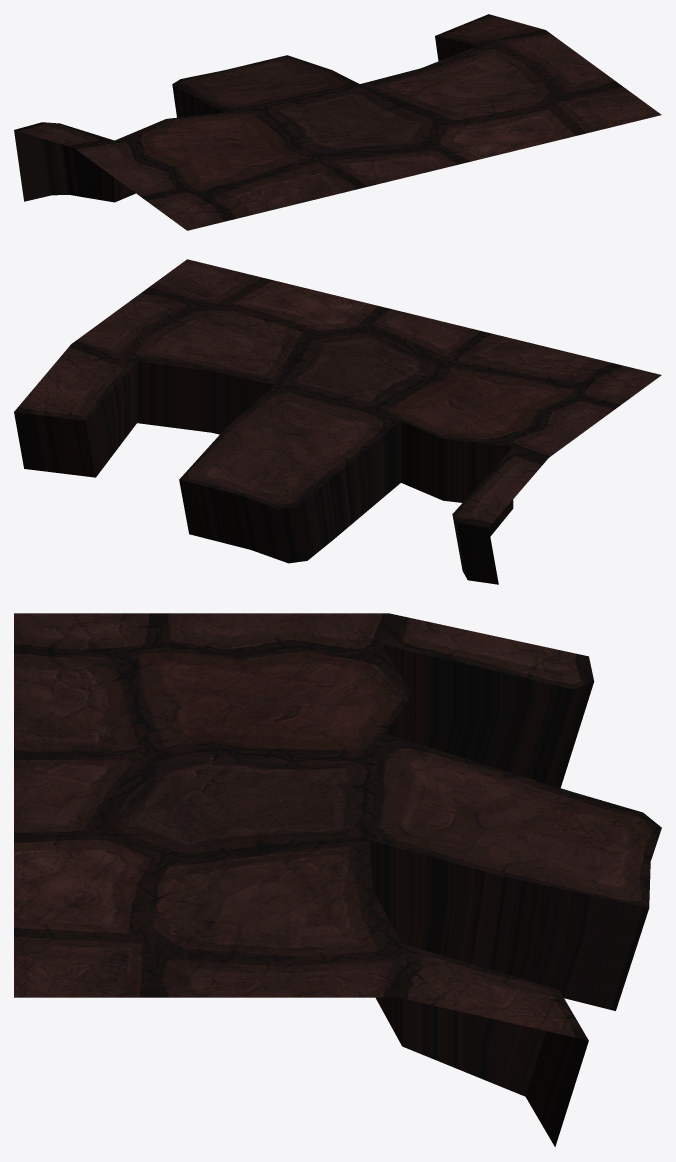
The model's file is lava_floor_brokenstraight_02.fbx.
3 renders of one model, top to bottom at view 1: azimuth 30°, elevation 25°; view 2: azimuth 150°, elevation 25°; view 3: azimuth 270°, elevation 25°, orthographic. The views are drawn at different scales.
Parts seen in each view (by area): view 1: obj0.166; view 2: obj0.166; view 3: obj0.166.
Part boxes in pixels (x1,y1,x2,y2): obj0.166: (14,14,661,230); obj0.166: (14,259,661,584); obj0.166: (14,613,661,1146).
Bounding box in the file's own units: 4 × 0.7984 × 2.85.
